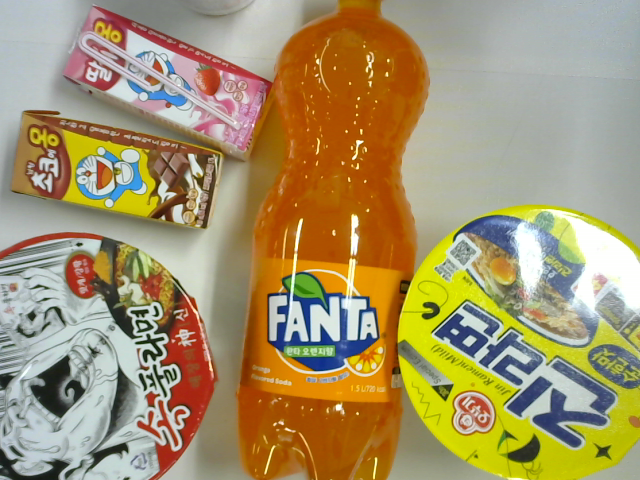Choco_E_Mong: (17, 106, 222, 235)
Hejangpul: (1, 222, 220, 465)
Hwanta_Orange_1.5L: (250, 15, 422, 480)
Jinlamyeon_Mild_Taste_Large_Cup: (386, 205, 640, 467)
Strawberry_E_Mong: (57, 6, 279, 158)
